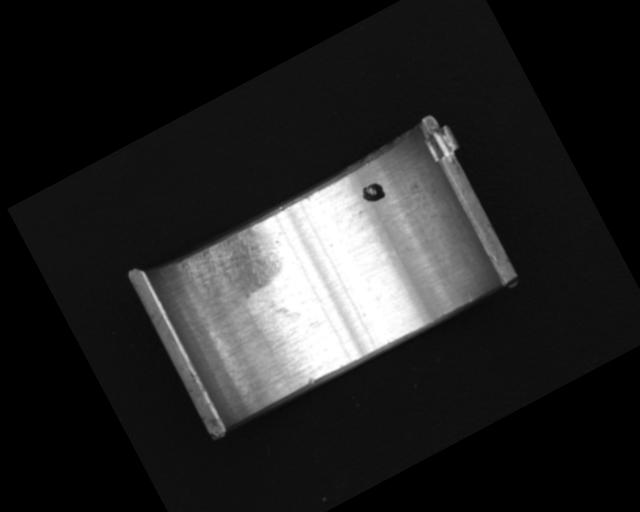blot: (358, 178, 388, 206)
bruise: (304, 374, 316, 387)
scratch: (172, 215, 298, 323)
